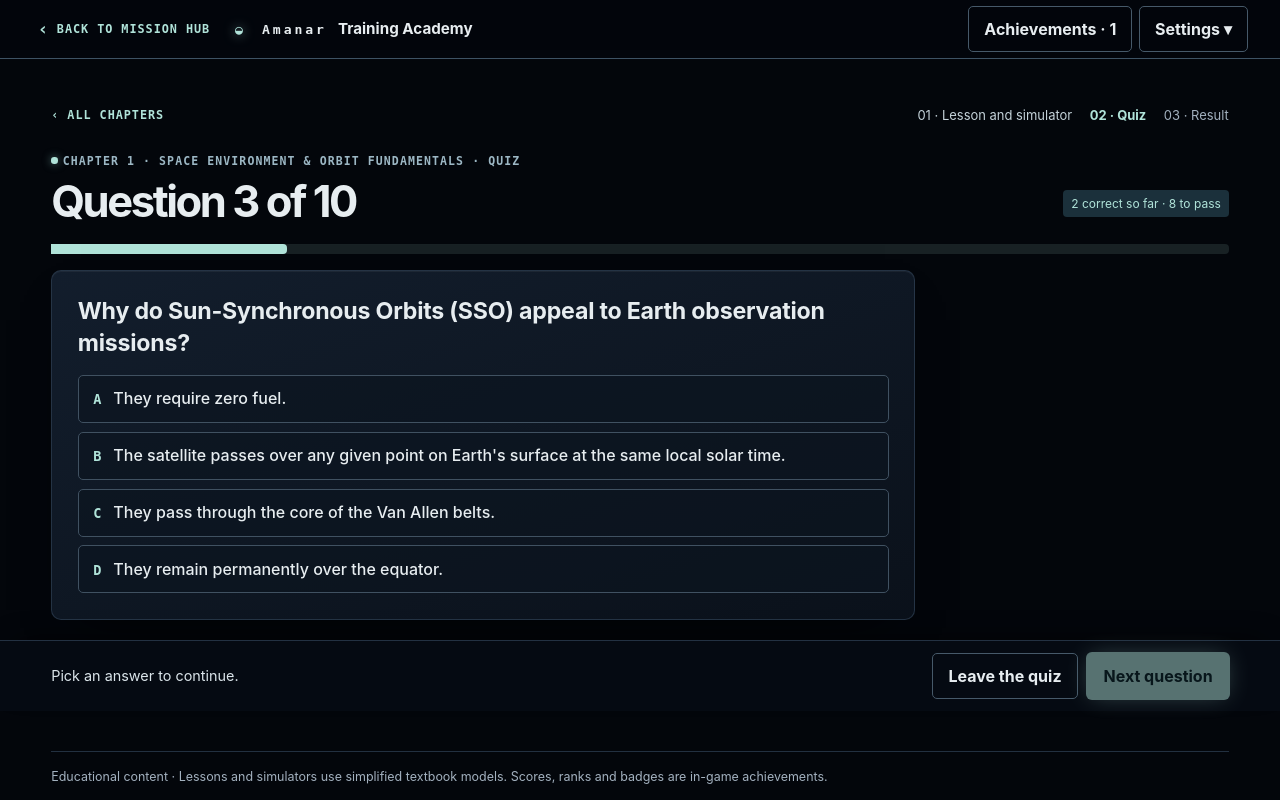
Scenario: Academy flow › runs lesson → quiz → result, unlocks the next chapter and keeps it after a reload
Earlier steps of the test are not shown.
Later steps or results of the test are not shown.
Expected: the button "Next question" is disabled, [1087,653,1229,699]
Click the 3rd button at (483, 456), box [78,432,889,480]
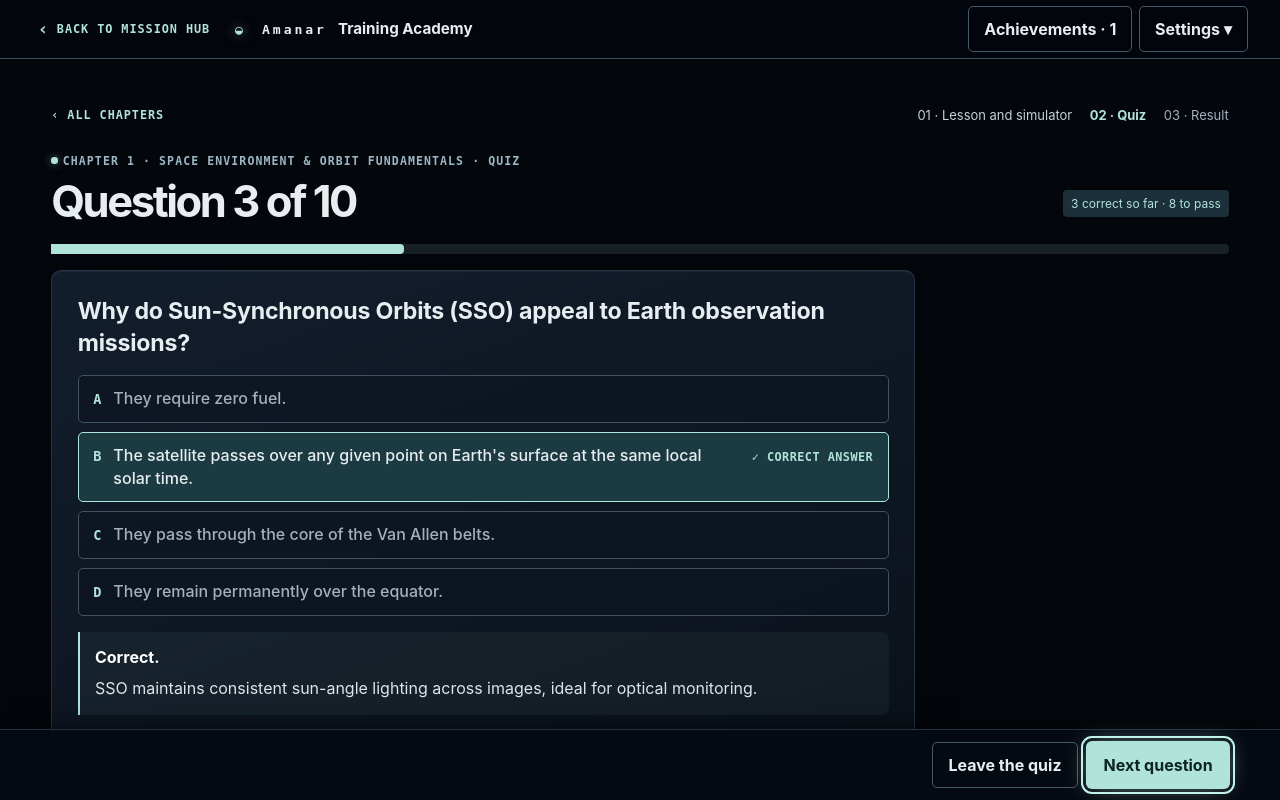
Now the message shows "Correct.", box [95,647,160,667]
Now the message shows "SSO maintains consistent sun-angle lighting across images, ideal for optical monitoring.", box [95,678,758,698]
Click the button "Next question" at (1158, 765), box [1087,742,1229,788]
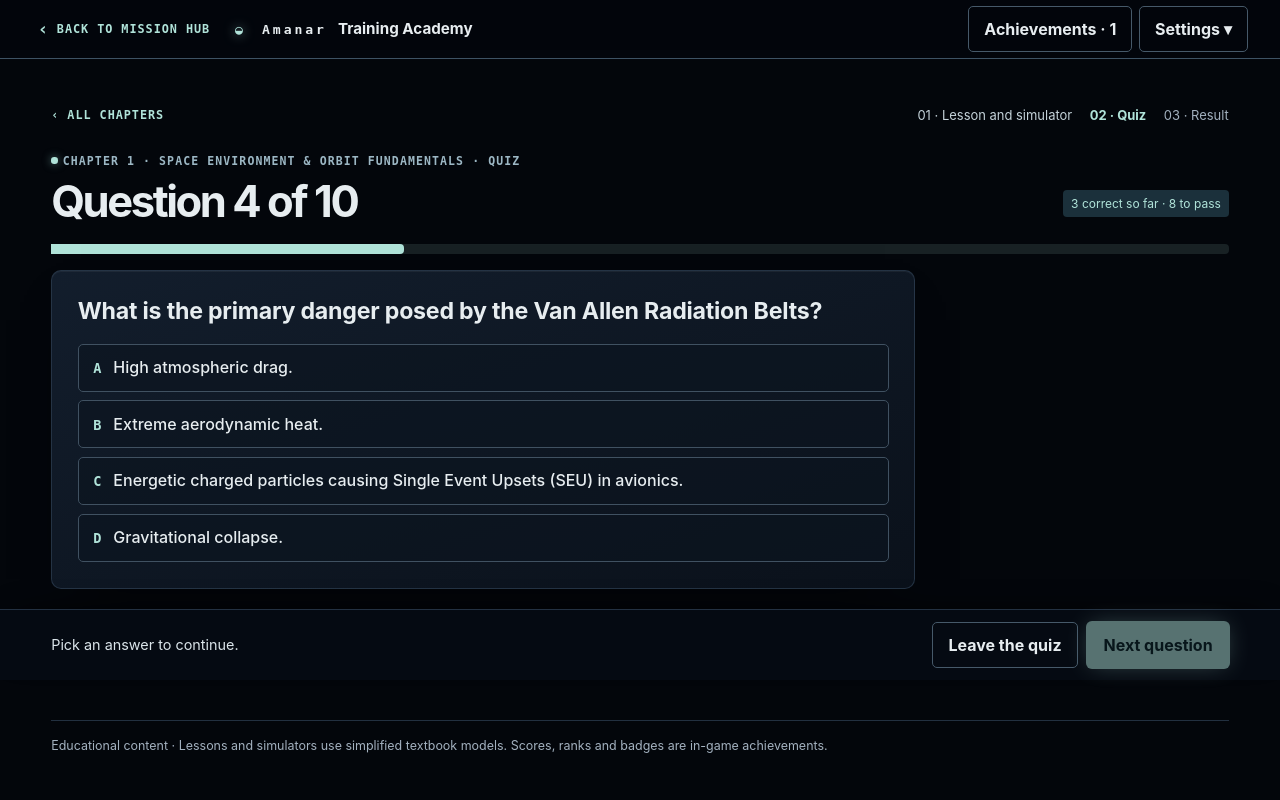
Now the button "Next question" is disabled, box [1087,622,1229,668]
Click the 4th button at (483, 481), box [78,457,889,505]
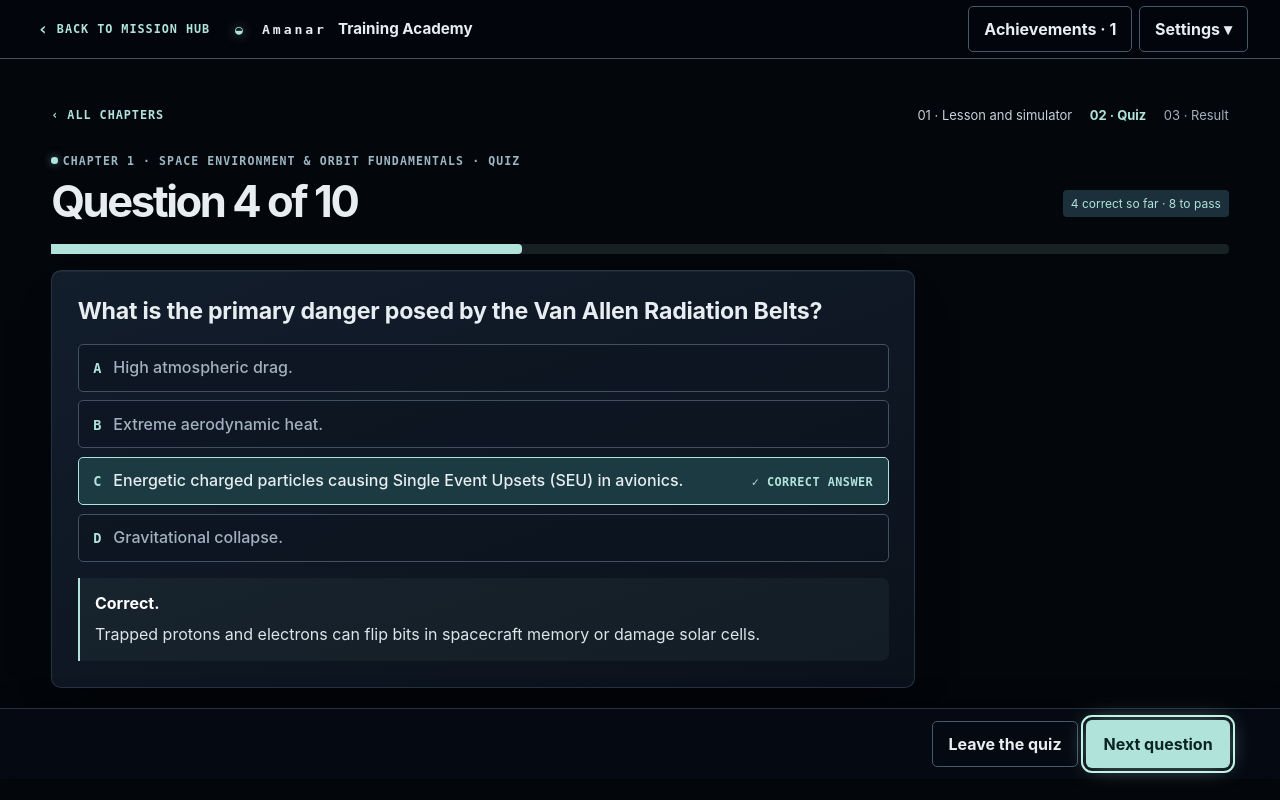
Now the message shows "Correct.", box [95,593,160,613]
Now the message shows "Trapped protons and electrons can flip bits in spacecraft memory or damage solar cells.", box [95,624,760,644]
Click the button "Next question" at (1158, 744), box [1087,721,1229,767]
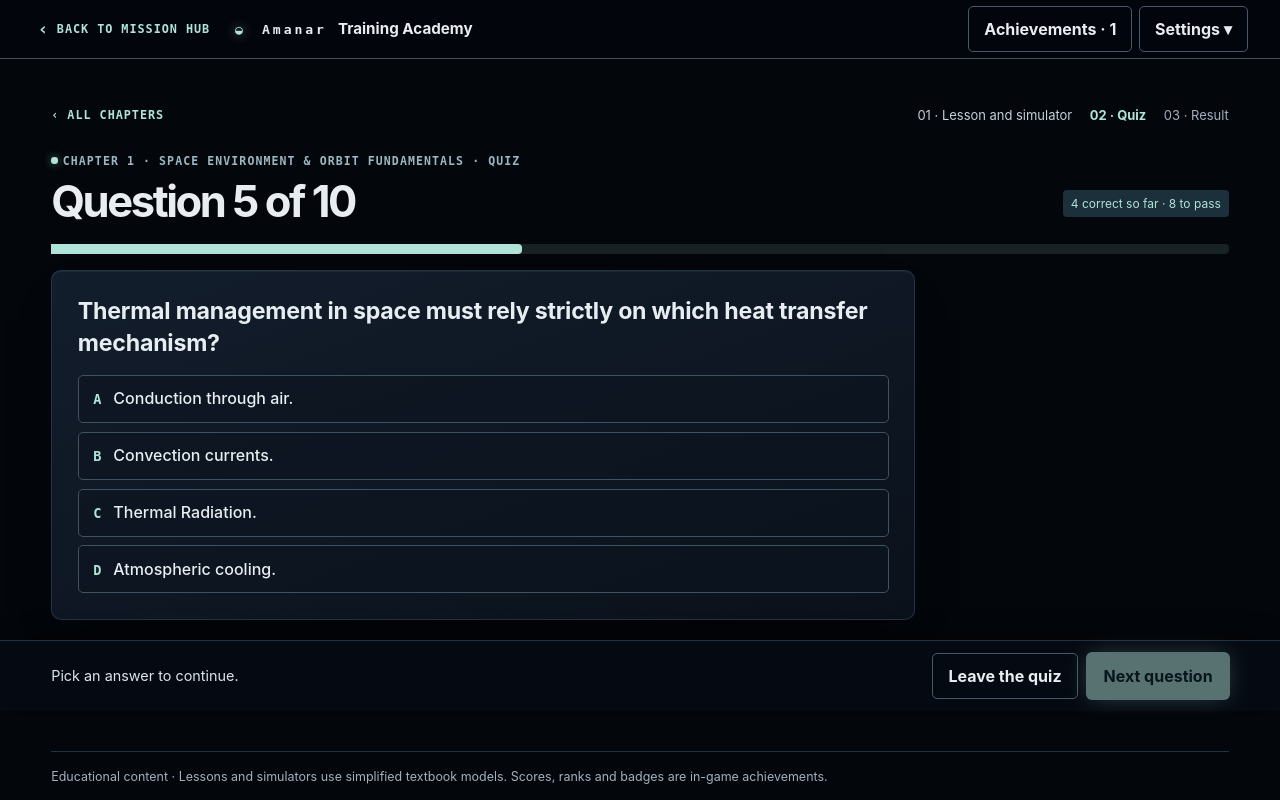
Now the button "Next question" is disabled, box [1087,653,1229,699]
Click the button "C Thermal Radiation." at (185, 512), box [78,488,889,536]
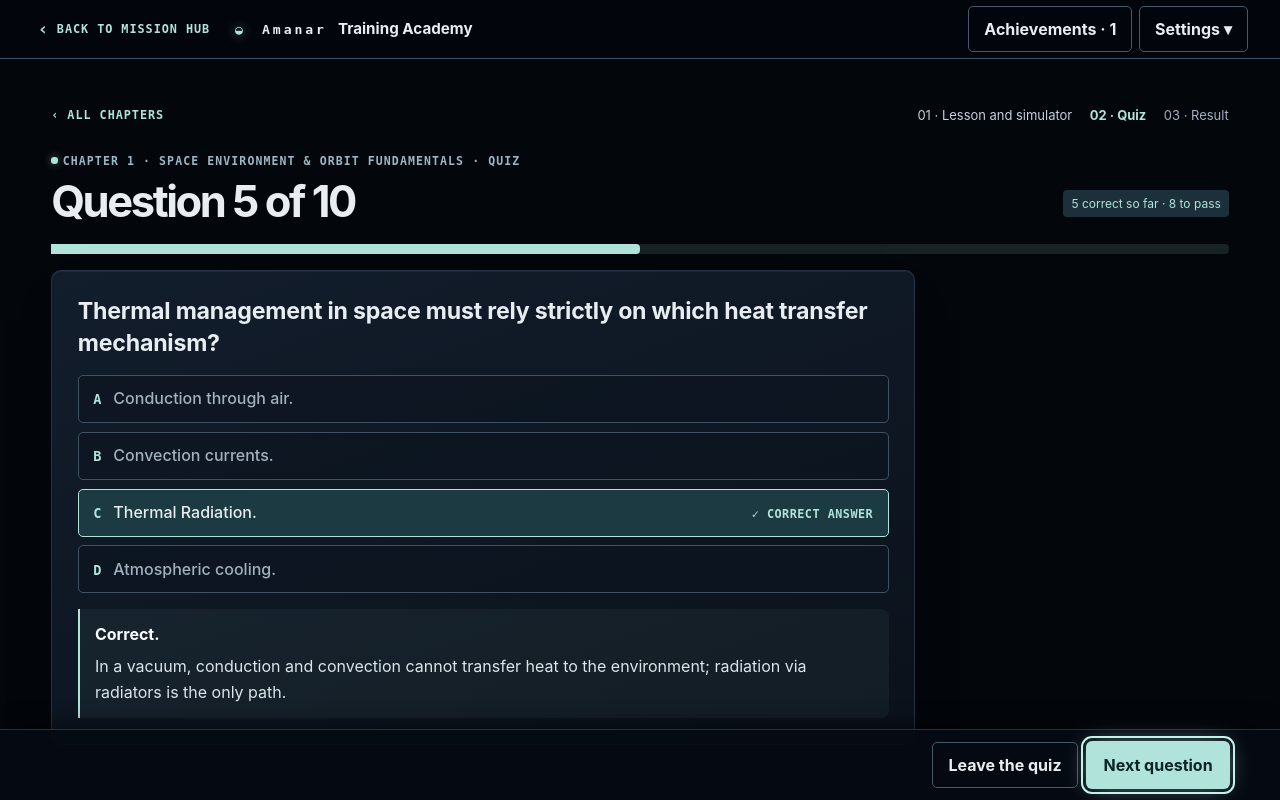
Now the message shows "Correct.", box [95,624,160,644]
Now the message shows "In a vacuum, conduction and convection cannot transfer heat to the environment; radiation via radiators is the only path.", box [95,656,807,702]
Click the button "Next question" at (1158, 765), box [1087,742,1229,788]
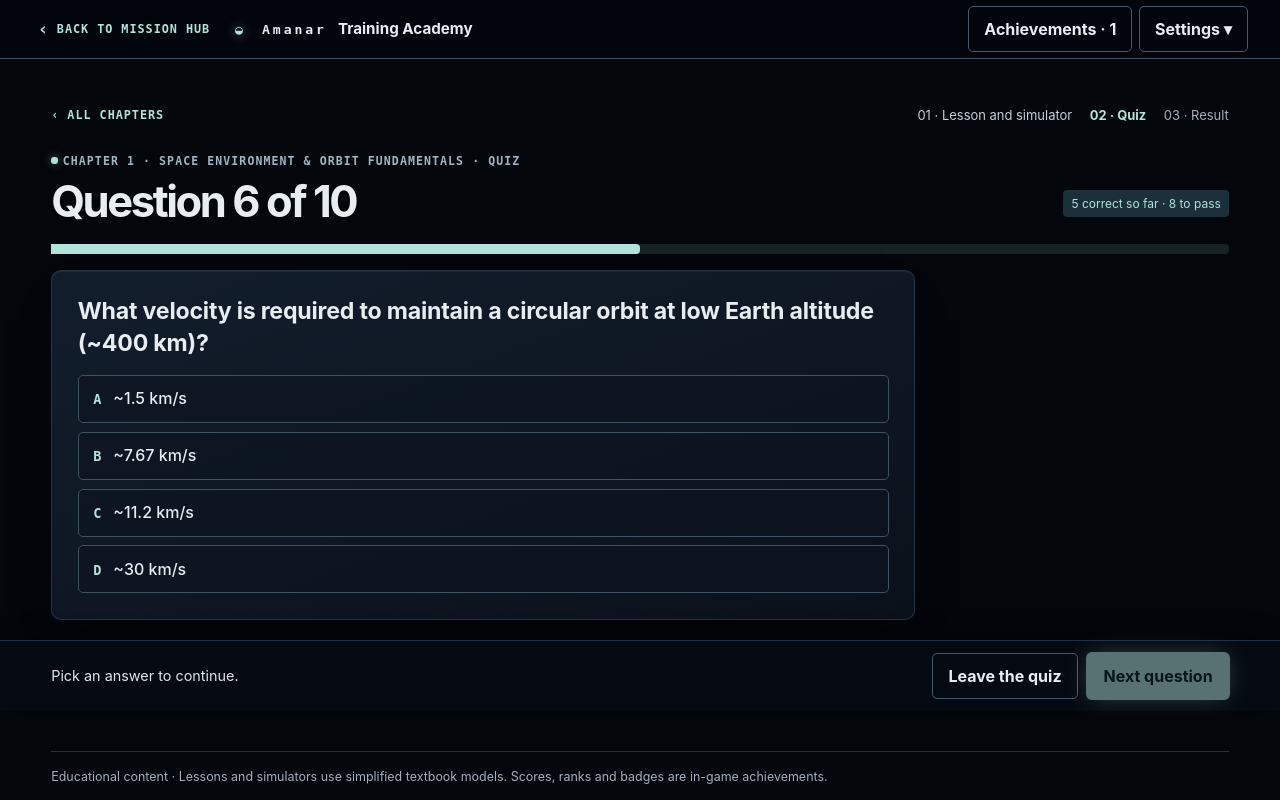
Now the button "Next question" is disabled, box [1087,653,1229,699]
